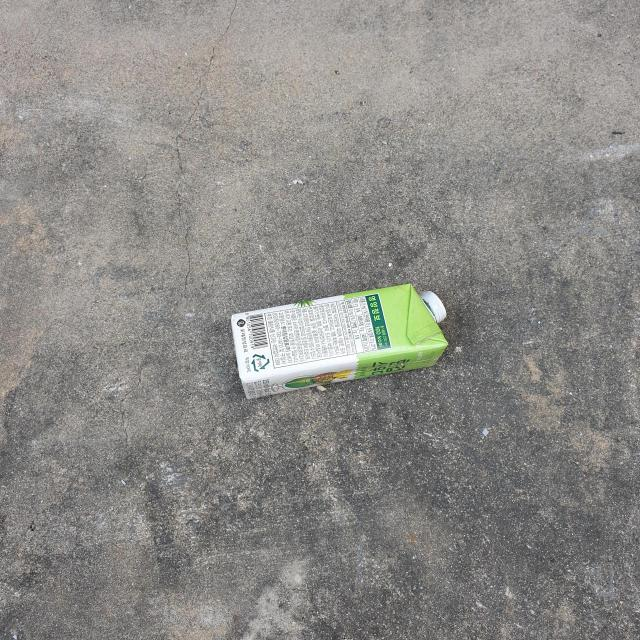paperpack: (231, 285, 448, 399)
